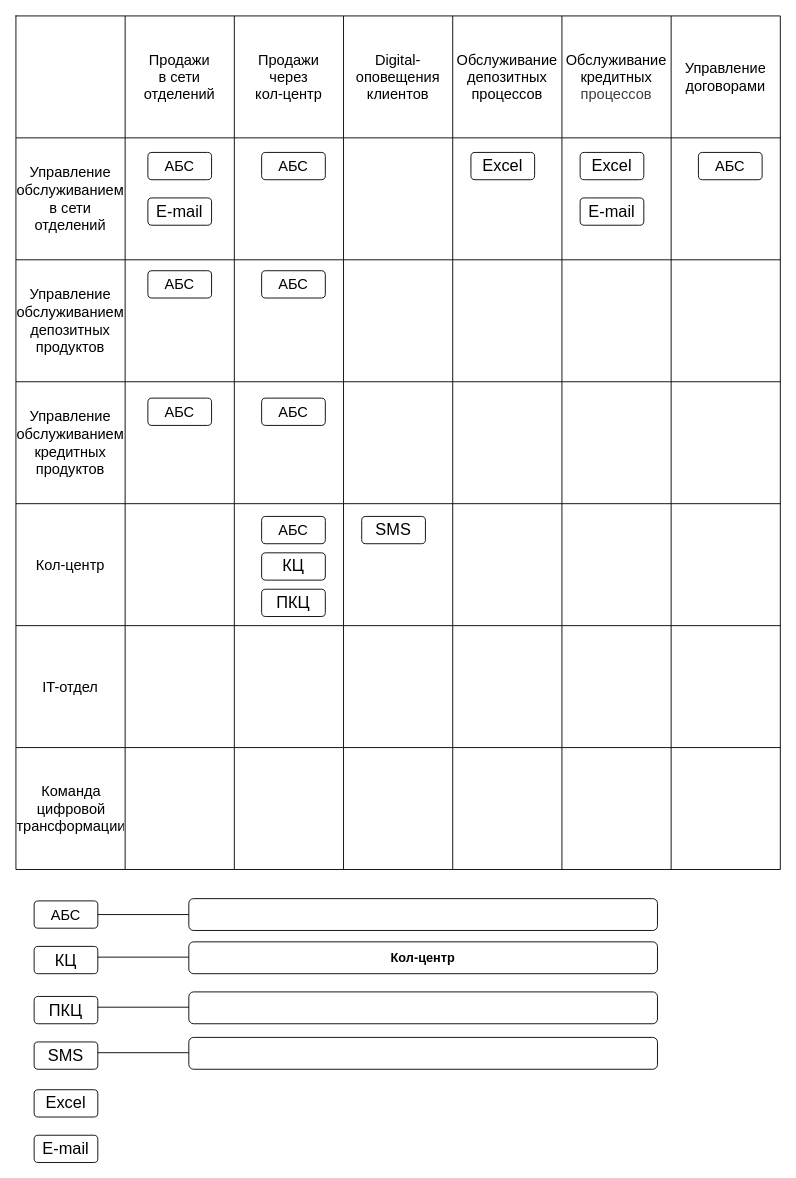
Image size: 796x1178. Some labels were removed from this diagram. Here are the shapes that lost their labels. From the top down, the box of each, then its label:
(188, 898, 657, 930): Автоматизированная банковская система (АБС)
(188, 991, 657, 1024): Партнерский Колл-центр
(188, 1036, 657, 1069): СМС шлюз
